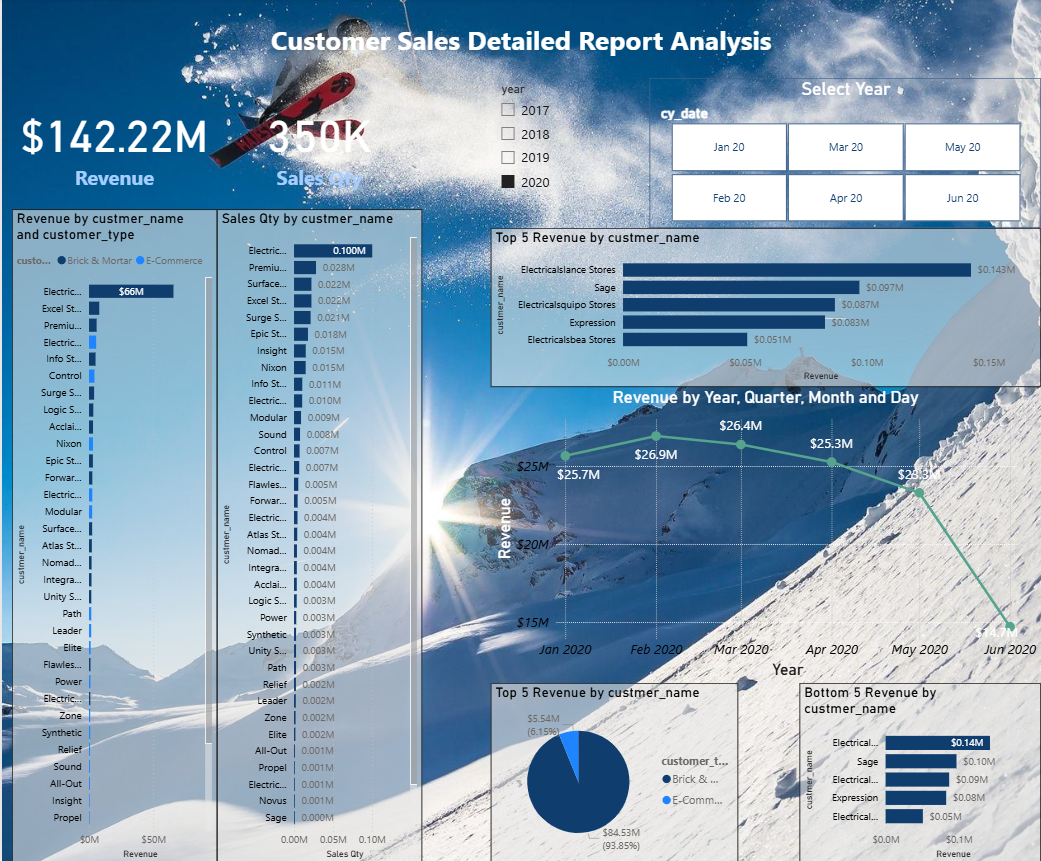

The page's visual inventory and layout, read from the dashboard file:
{"tool":"powerbi","page":{"name":"Duplicate of Page 1","canvas":[1260,1050],"ordinal":1},"visuals":[{"type":"card","fields":{"Values":["BaseMeasure.Revenue"]},"box":[12.1,97,248.6,159.1],"z":0},{"type":"slicer","fields":{"Values":["sales date.year"]},"box":[592.6,97,192.5,183.4],"z":1000},{"type":"slicer","title":"Select Year","fields":{"Values":["sales date.cy_date"]},"box":[785.1,97,474.4,181.9],"z":2000},{"type":"barChart","fields":{"Y":["BaseMeasure.Revenue"],"Category":["sales customers.custmer_name"],"Series":["sales customers.customer_type"]},"box":[12.1,256.1,248.6,794.2],"z":3000},{"type":"barChart","fields":{"Y":["BaseMeasure.Sales Qty"],"Category":["sales customers.custmer_name"]},"box":[260.7,256.1,248.6,794.2],"z":4000},{"type":"barChart","title":" Bottom 5 Revenue by custmer_name","fields":{"Y":["BaseMeasure.Revenue"],"Category":["sales customers.custmer_name"]},"box":[967,830.5,292.5,219.8],"z":5000},{"type":"pieChart","title":"Top 5 Revenue by custmer_name","fields":{"Y":["BaseMeasure.Revenue"],"Series":["sales customers.customer_type"],"Category":["sales customers.customer_type"]},"box":[592.6,830.5,300.1,219.8],"z":6000},{"type":"lineChart","fields":{"Y":["BaseMeasure.Revenue"],"Category":["sales date.cy_date.Variation.Date Hierarchy.Year","sales date.cy_date.Variation.Date Hierarchy.Quarter","sales date.cy_date.Variation.Date Hierarchy.Month","sales date.cy_date.Variation.Date Hierarchy.Day"]},"box":[592.6,471.4,666.9,359.2],"z":7000},{"type":"barChart","title":"Top 5 Revenue by custmer_name","fields":{"Y":["BaseMeasure.Revenue"],"Category":["sales customers.custmer_name"]},"box":[592.6,278.9,666.9,192.5],"z":8000},{"type":"textbox","box":[0,24.2,1259.5,57.6],"z":9000},{"type":"card","fields":{"Values":["BaseMeasure.Sales Qty"]},"box":[260.7,97,248.6,159.1],"z":10000}]}

Visuals, with their boxes in screenshot pixels (x1, y1, x2, y2), scaled from the page's 1260x1050 canvas onto the 1041x861 screenshot:
card - BaseMeasure.Revenue: 10 80 215 210
slicer - sales date.year: 490 80 649 230
"Select Year" slicer: 649 80 1040 229
barChart - BaseMeasure.Revenue x sales customers.custmer_name: 10 210 215 860
barChart - BaseMeasure.Sales Qty x sales customers.custmer_name: 215 210 421 860
" Bottom 5 Revenue by custmer_name" barChart: 799 681 1040 860
"Top 5 Revenue by custmer_name" pieChart: 490 681 738 860
lineChart - BaseMeasure.Revenue x sales date.cy_date.Variation.Date Hierarchy.Year: 490 387 1040 681
"Top 5 Revenue by custmer_name" barChart: 490 229 1040 387
textbox: 0 20 1040 67
card - BaseMeasure.Sales Qty: 215 80 421 210
